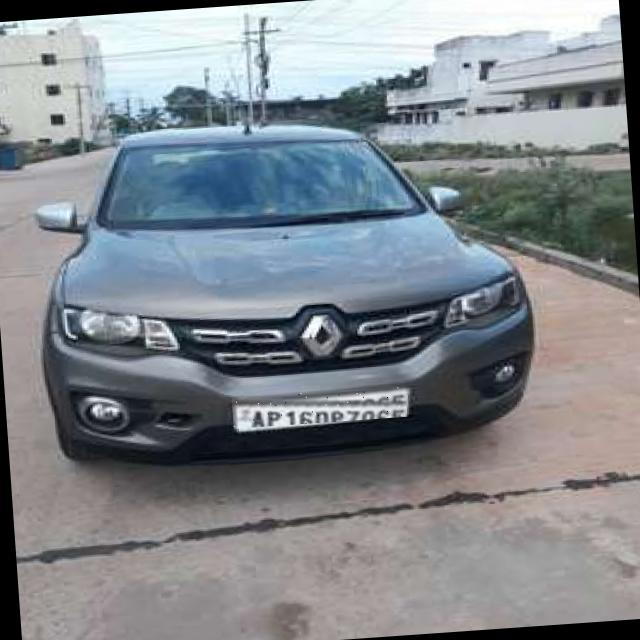Plate: (232, 387, 408, 430)
